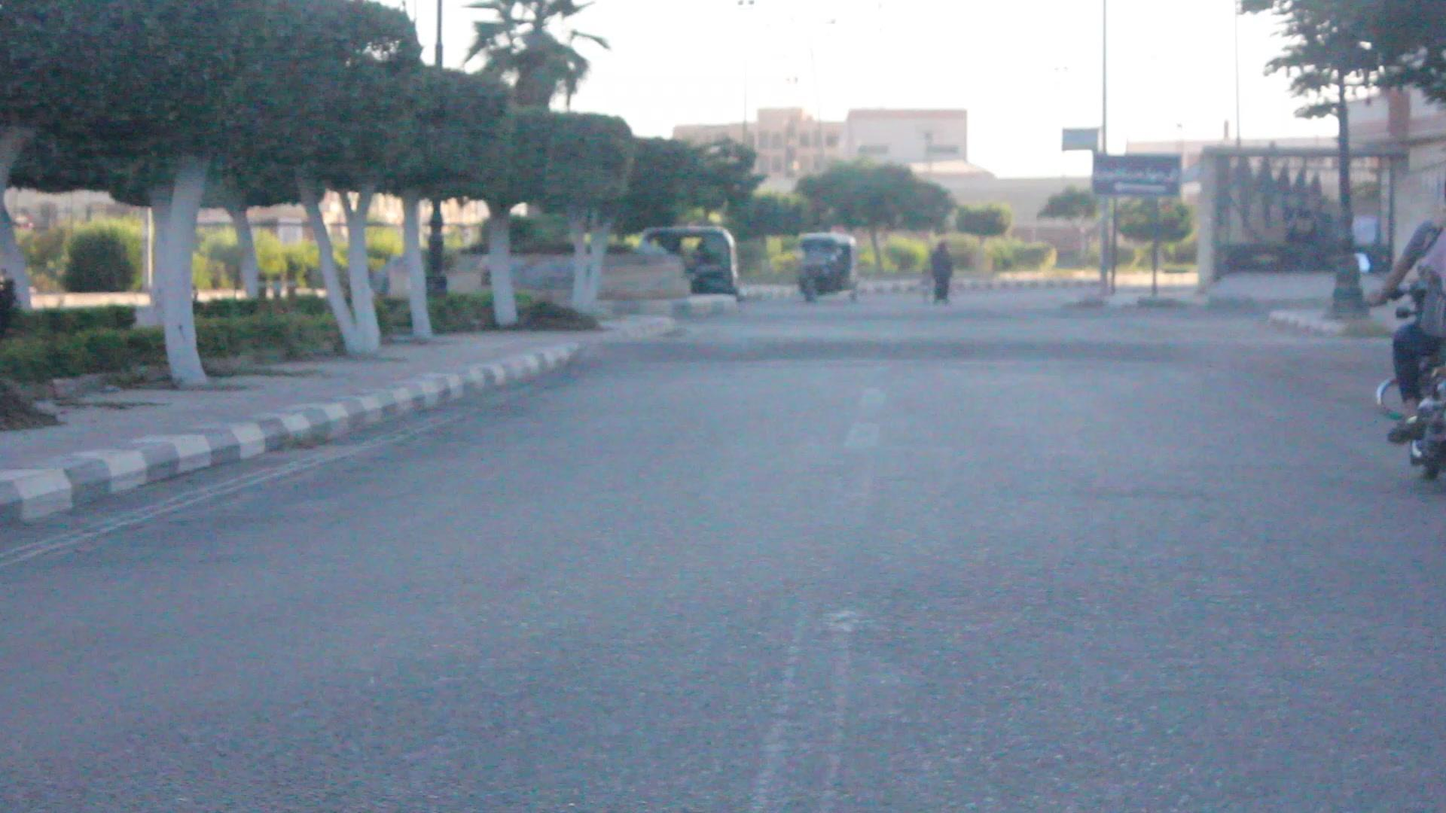Bump: (601, 333, 1224, 376)
